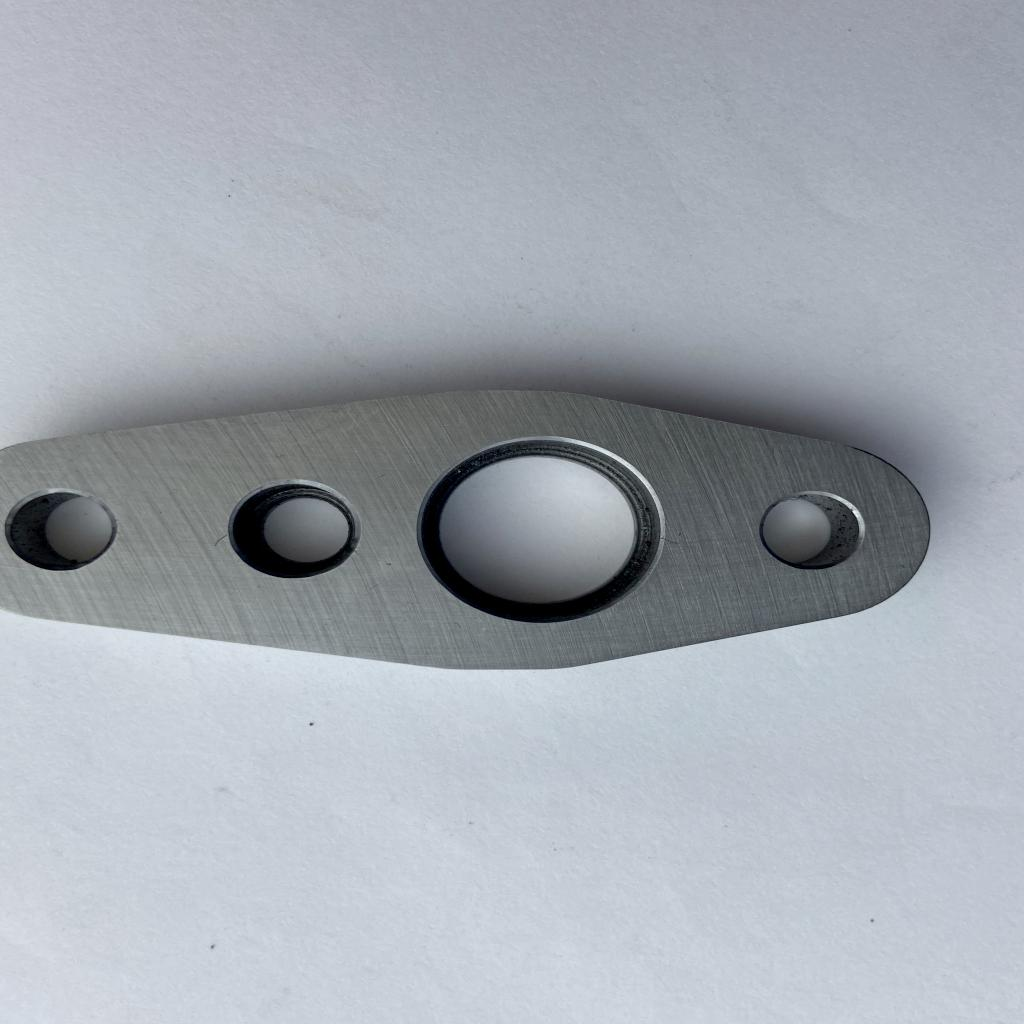chap: (351, 547, 364, 558)
lines: (210, 532, 229, 552), (658, 534, 682, 546), (380, 559, 394, 568)
